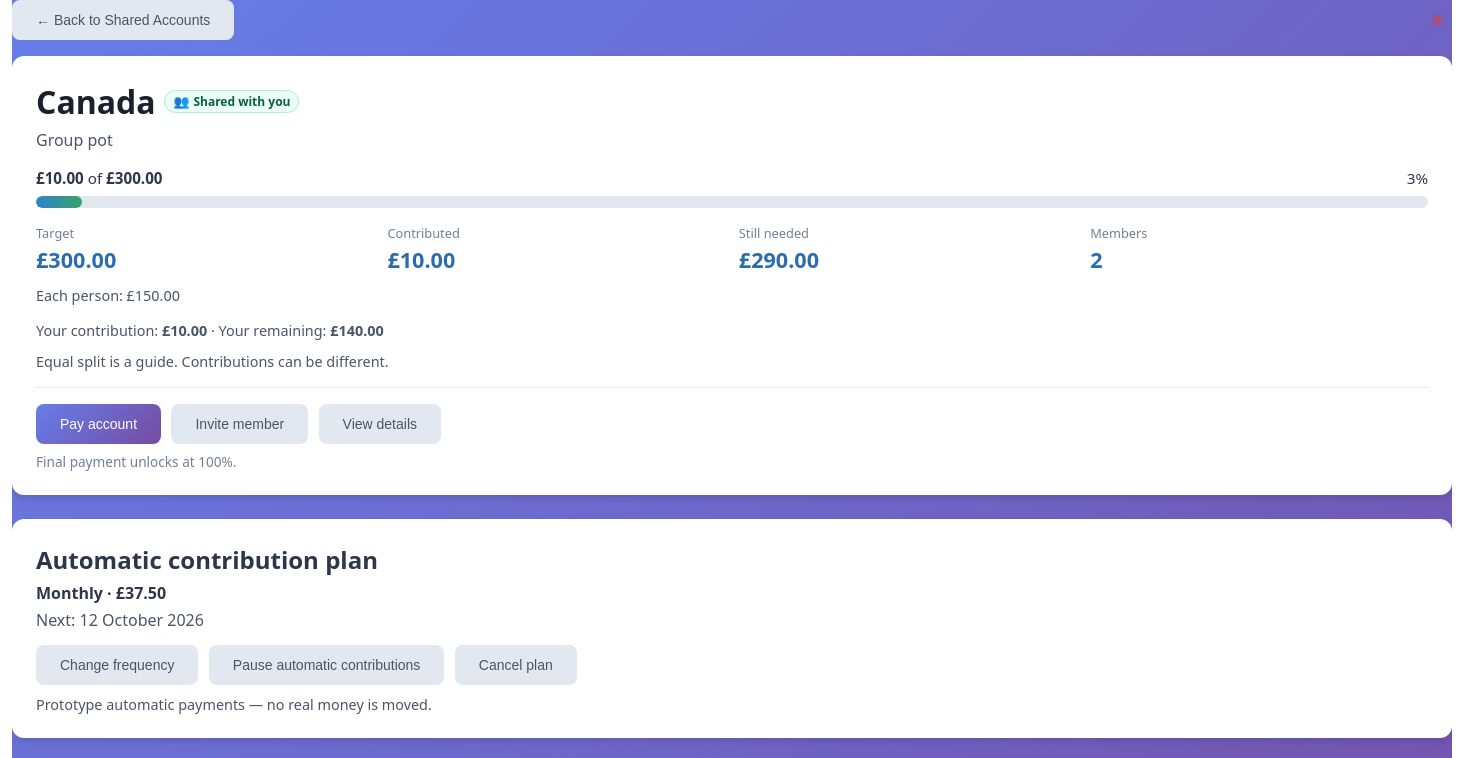
Scenario: SharedAccountDetail contribution plan management › confirms a frequency change and leaves previous contributions unchanged
Click the button "Change frequency": (117, 665) [36,645,198,685]
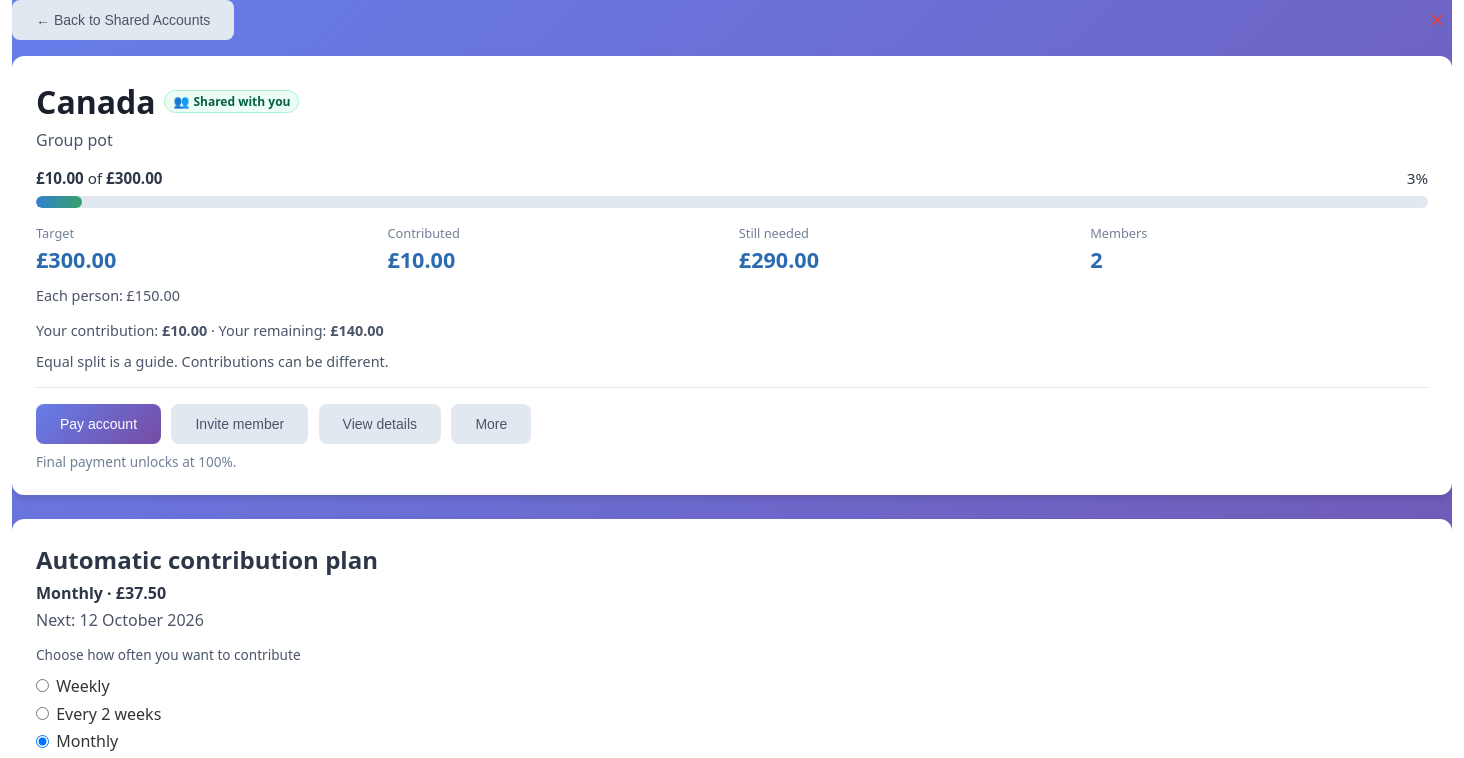
Click the radio button labelled "Every 2 weeks": (42, 714) [36,707,49,720]
(page scrolled)
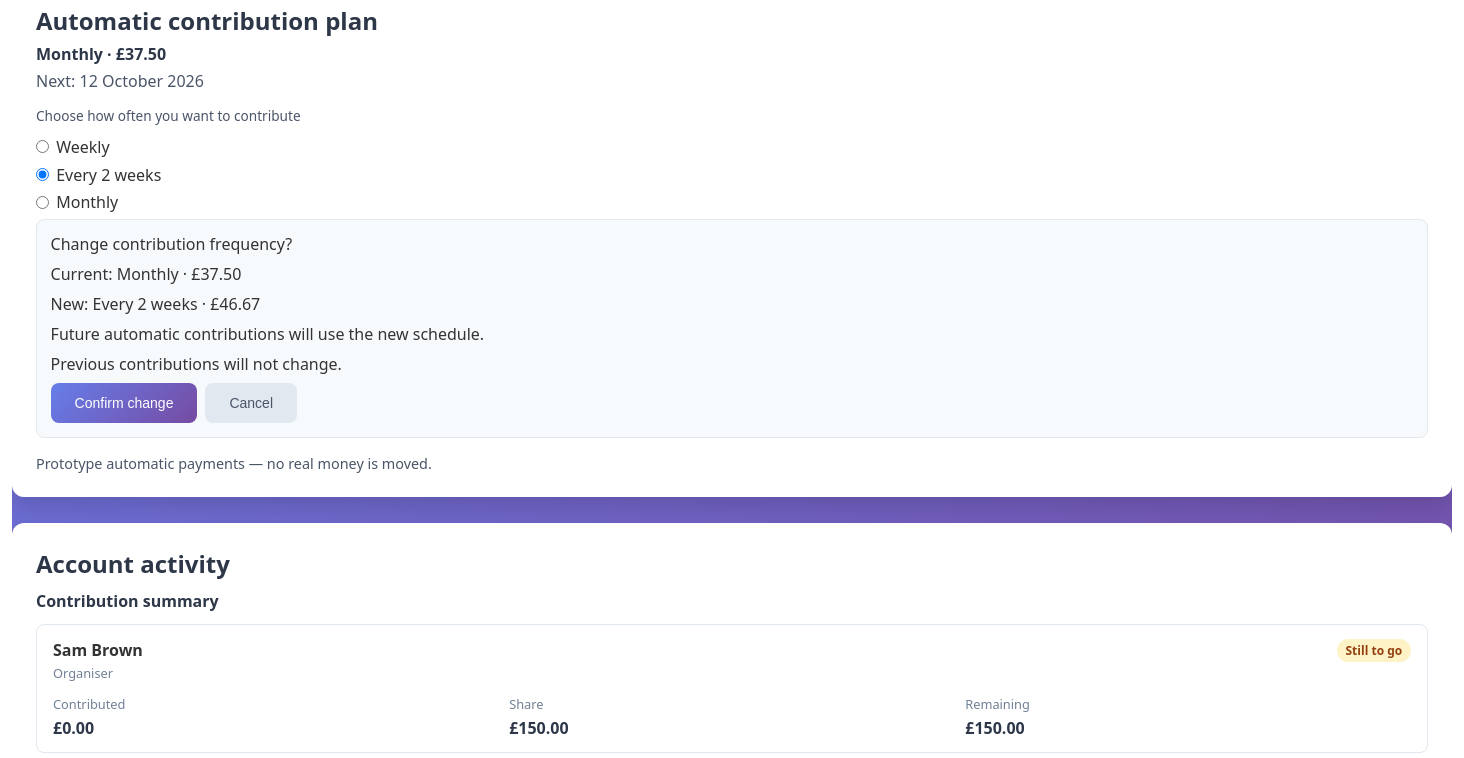
Click the button "Confirm change": (124, 403) [51,383,197,423]
(page scrolled)
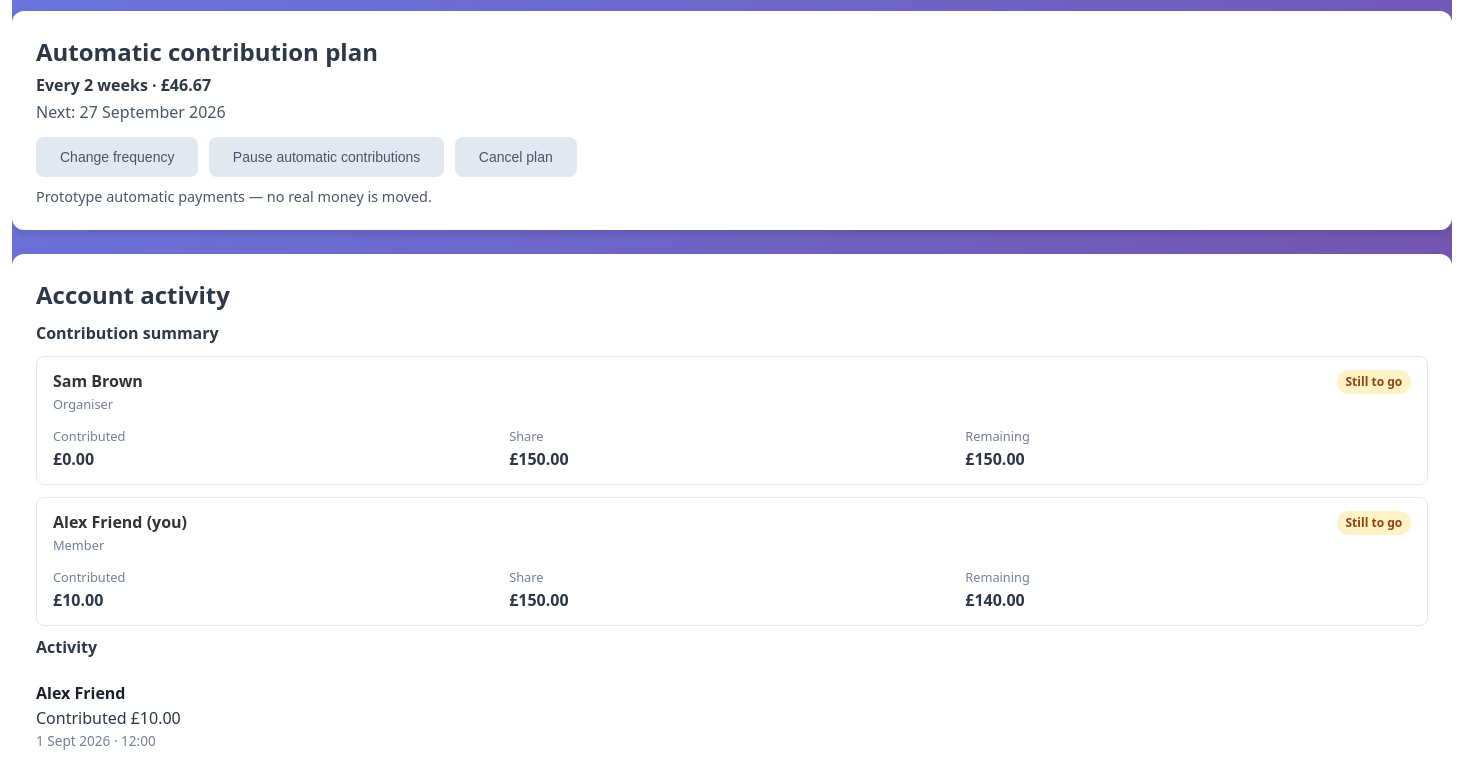
Check: the text "Contributed £10.00" is shown, box [36,707,181,729]
Check: the text "Every 2 weeks · £46.67" is shown, box [36,74,211,96]
Check: the text "Next: 27 September 2026" is shown, box [36,101,226,123]
